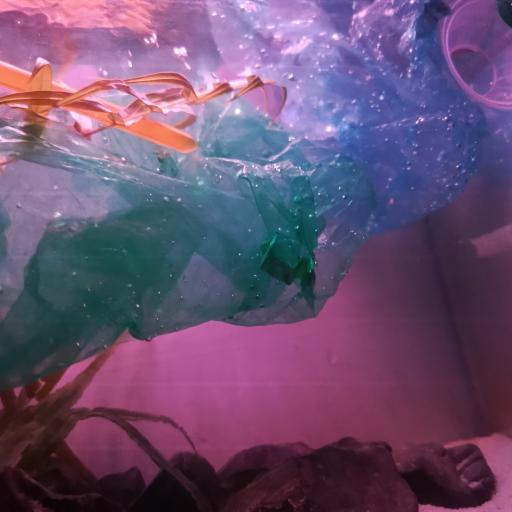plastic_bag: (0, 107, 369, 386), (206, 0, 511, 235)
plastic_cup: (442, 0, 512, 111)
plastic_straw: (1, 62, 198, 152)
